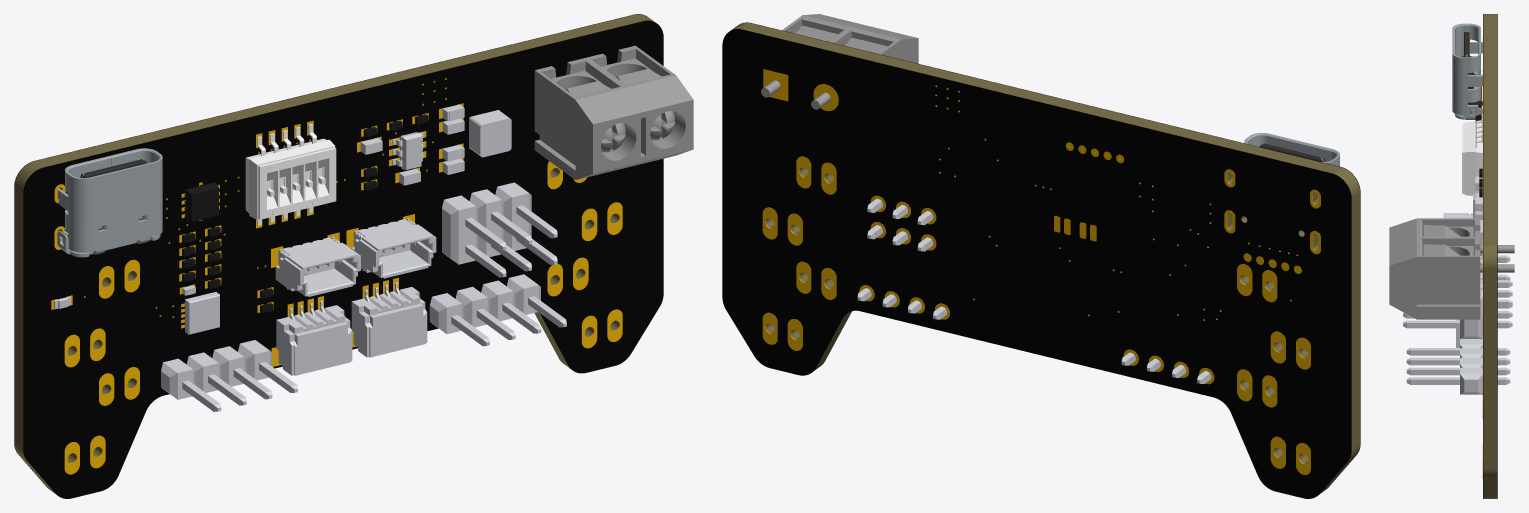
File: unit_3d_v_1_0_0_ue0113_Power_Supply_for_Breadboard.glb
3 views of the same model, side by side, from view 1: azimuth 30°, elevation 25°; view 2: azimuth 150°, elevation 25°; view 3: azimuth 270°, elevation 25° (orthographic). The views are drawn at different scales.
Parts seen in each view (by area): view 1: colour-10, colour-1, colour-8, colour-0, colour-9, colour-6, colour-7, colour-2; view 2: colour-10, colour-9, colour-0, colour-8, colour-1, colour-6; view 3: colour-8, colour-0, colour-1, colour-6, colour-7, colour-10, colour-9, colour-3, colour-2.
Part boxes in pixels (x1,y1,x2,y2): colour-10: (14,14,663,498); colour-1: (54,104,566,411); colour-8: (534,45,693,179); colour-0: (14,14,654,493); colour-9: (51,62,622,474); colour-6: (57,148,162,257); colour-7: (245,123,336,225); colour-2: (182,114,428,313); colour-10: (722,22,1360,498); colour-9: (762,69,1320,474); colour-0: (730,22,1360,494); colour-8: (761,14,918,109); colour-1: (857,198,1211,383); colour-6: (1244,133,1339,166); colour-8: (1389,218,1514,319); colour-0: (1483,14,1496,498); colour-1: (1403,176,1512,394); colour-6: (1452,23,1482,119); colour-7: (1462,114,1482,195); colour-10: (1483,14,1497,498); colour-9: (1482,38,1482,478); colour-3: (1462,32,1482,108); colour-2: (1475,114,1482,197).
Size of the model in its own units: 63.5 by 32 by 13.75.
